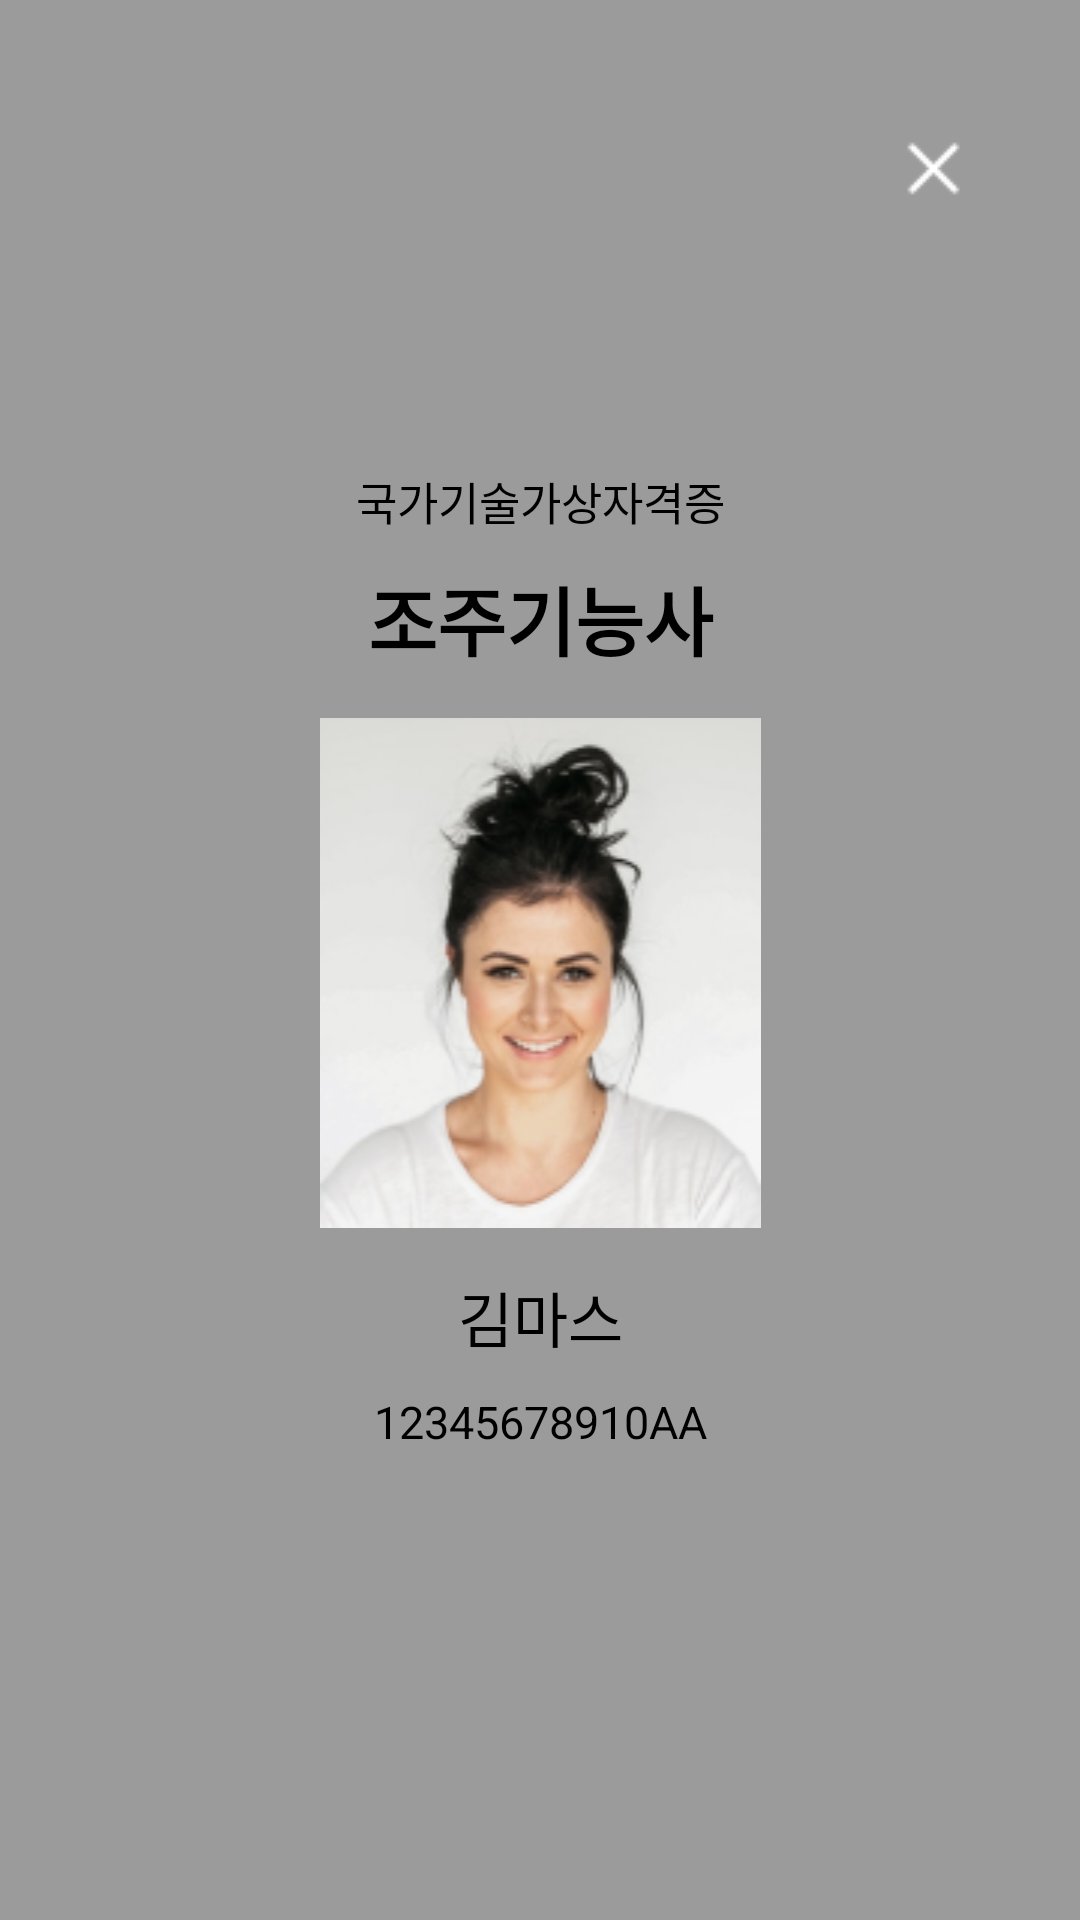

Where icons sit on this 1080w x 1920h app screen, as [x1, y1, x2, y2]:
close: [908, 143, 959, 194]
